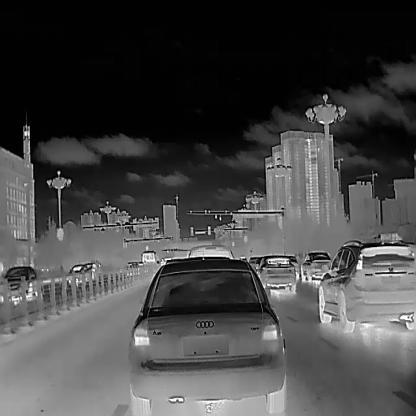car: (128, 258, 288, 415), (318, 239, 416, 331), (258, 253, 296, 294), (2, 264, 37, 300), (302, 249, 332, 282), (66, 262, 89, 284), (139, 250, 155, 264)
